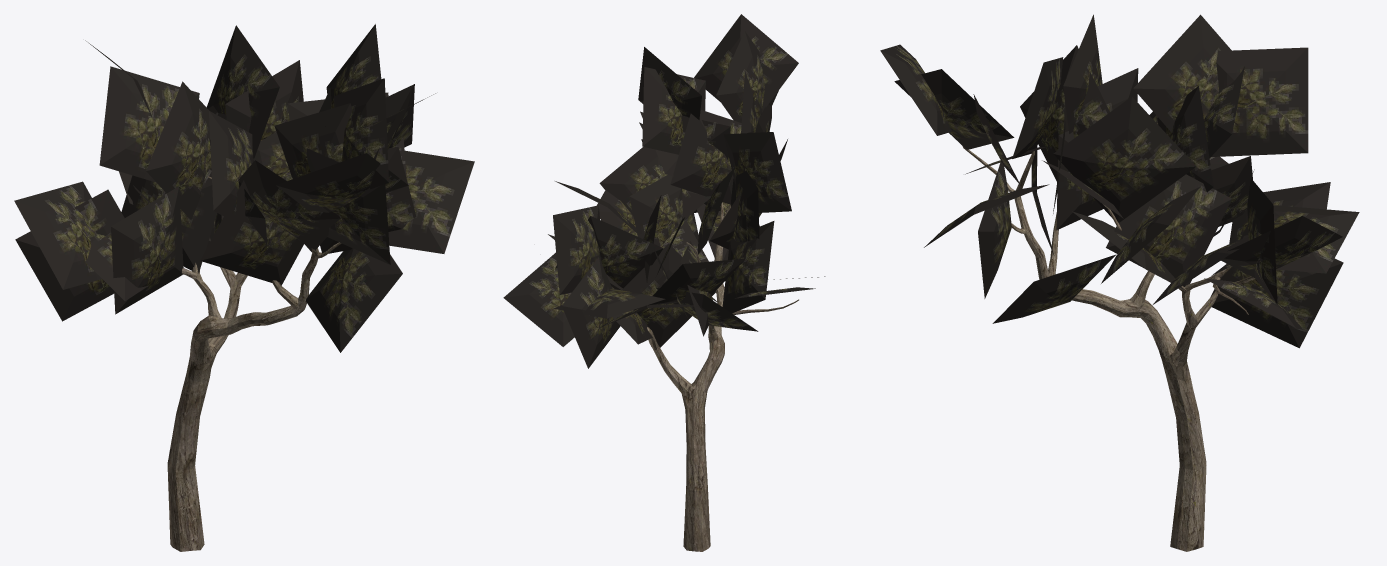
File: 1_TREE_01_6-transformed.glb
3 renders of one model, left to right at view 1: azimuth 30°, elevation 25°; view 2: azimuth 150°, elevation 25°; view 3: azimuth 270°, elevation 25°, orthographic. The views are drawn at different scales.
Visible parts, largest first — view 1: default; view 2: default; view 3: default.
Boxes of the visible parts, x1=… form: default: x1=14, y1=24, x2=474, y2=551; default: x1=503, y1=14, x2=825, y2=551; default: x1=880, y1=14, x2=1359, y2=551.
Bounding box in the file's own units: 8.9 × 12.82 × 10.47.
2 materials, 2 textured.
